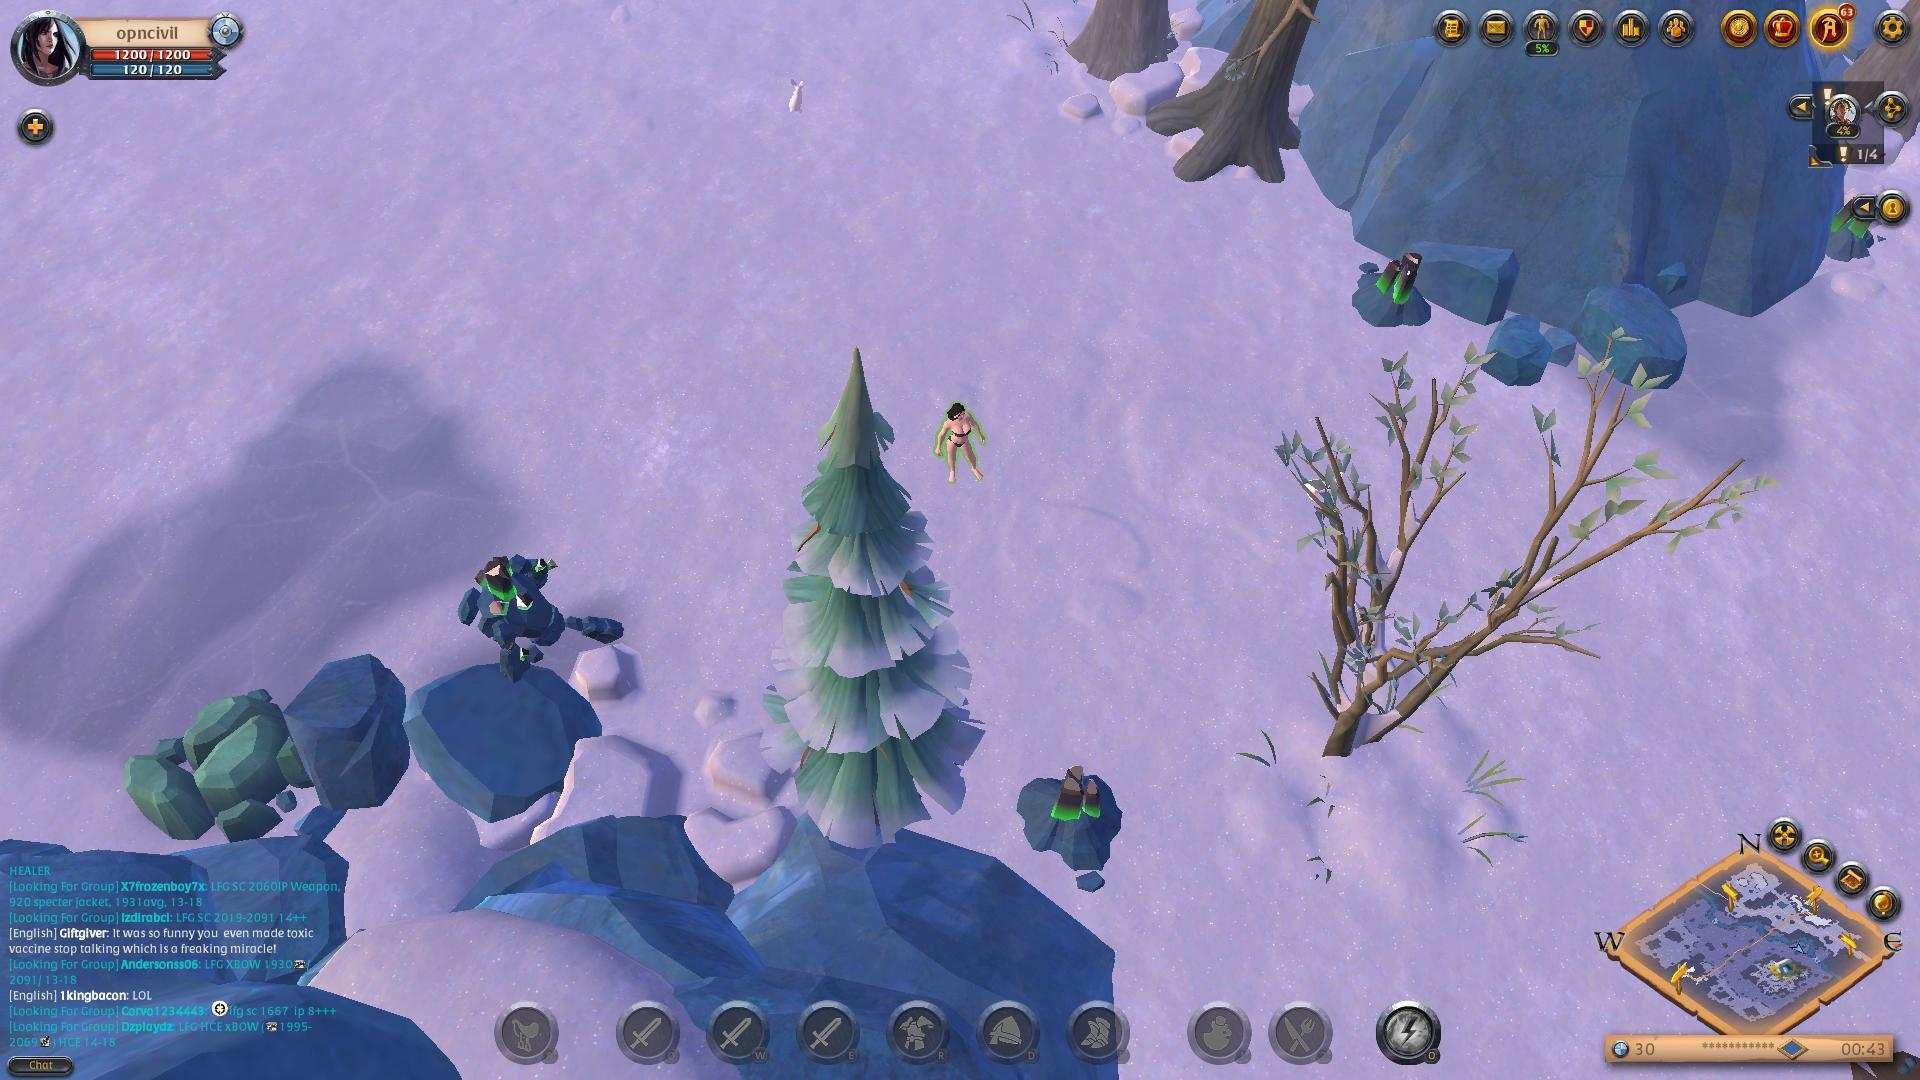sandstone: (119, 688, 324, 852)
tin_ore: (442, 547, 576, 645), (1009, 767, 1139, 858), (1345, 252, 1460, 332), (1812, 198, 1891, 268)
